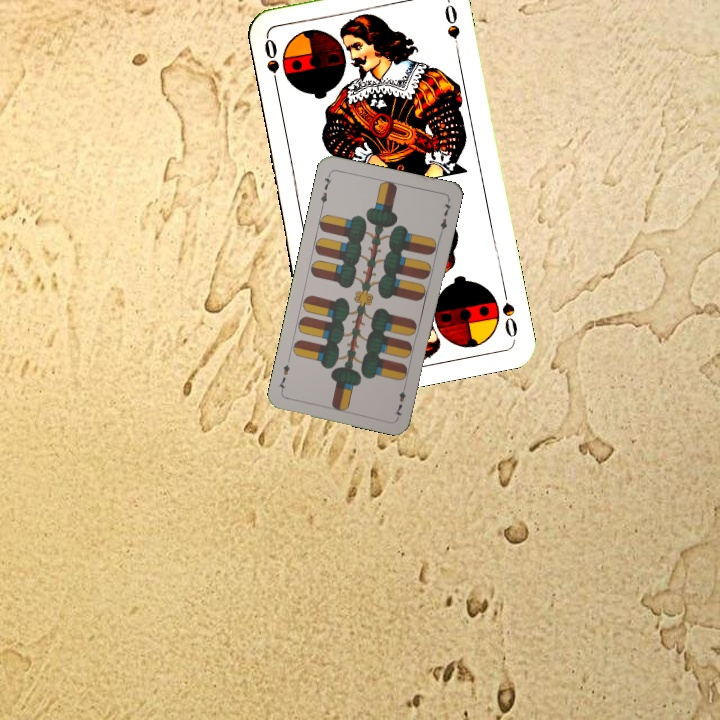E7: (390, 380, 409, 420), (317, 170, 334, 210)
SO: (260, 34, 282, 92), (498, 283, 520, 340)
